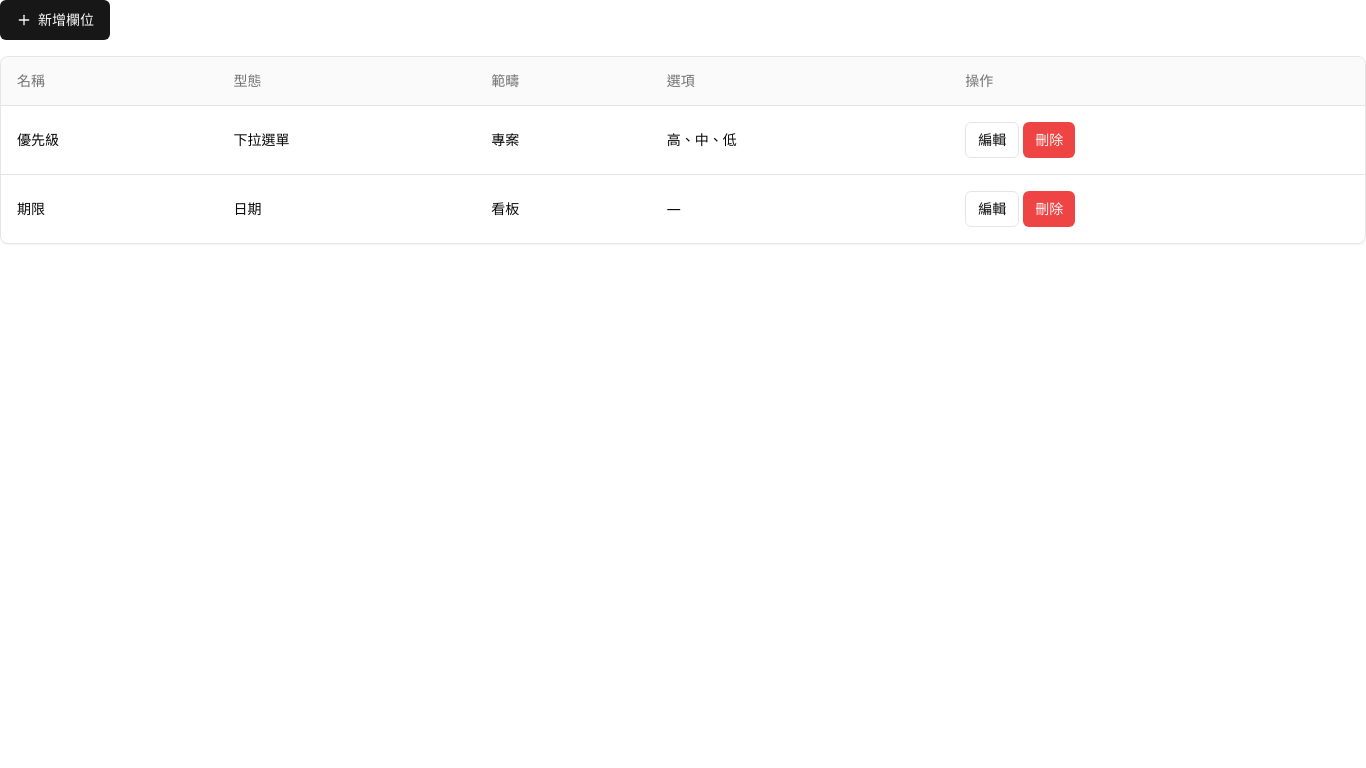
Test: CustomFieldsTab 編輯欄位 › 取消後改開另一列，顯示的是該列內容而非前一列的未儲存變更
The width and height of the screenshot is (1366, 768).
expect the text "優先級" is shown: met, box [1, 105, 218, 174]
Click the button "編輯" in the row of "優先級". click: [992, 140]
box: [965, 122, 1019, 158]
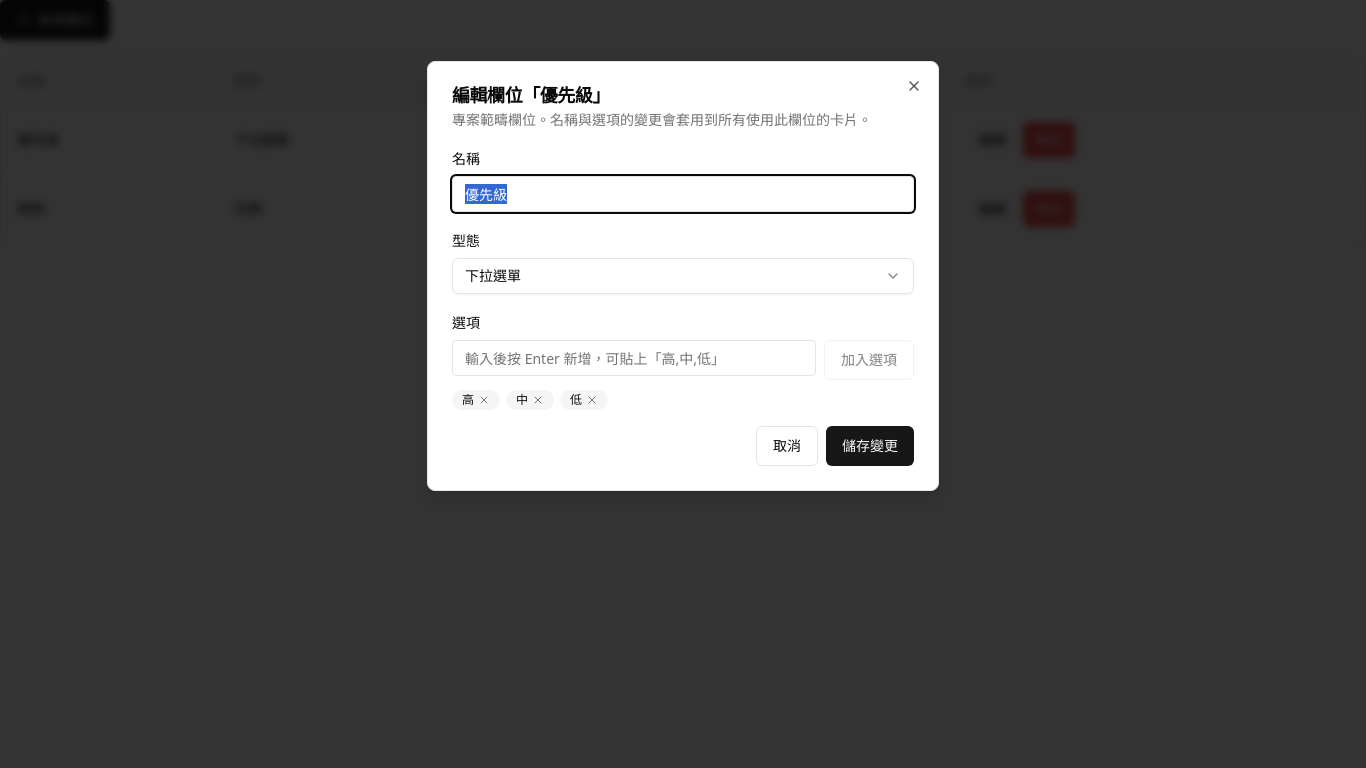
Replace the text in the field labelled "名稱" with "改到一半". click: [683, 194]
box: [452, 176, 914, 212]
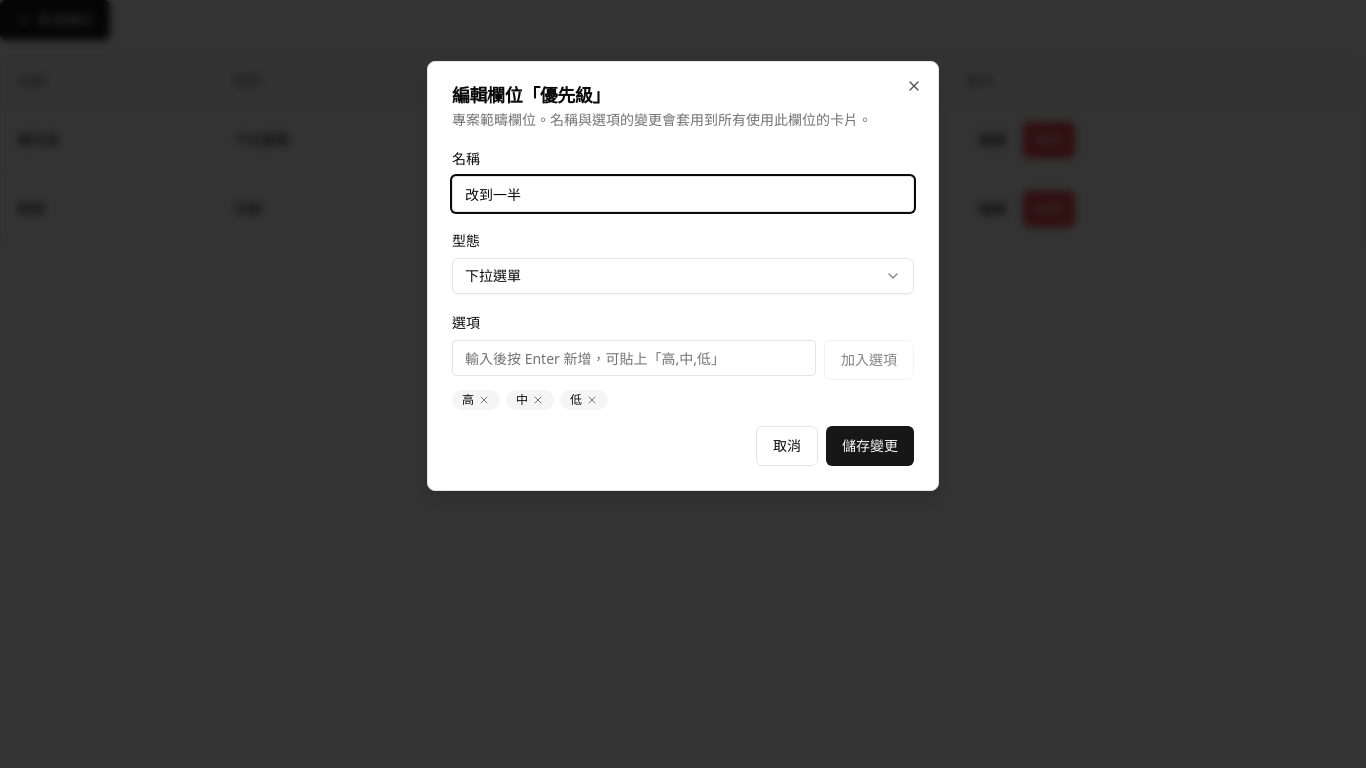
Click the button "取消". click: [787, 446]
box: [756, 426, 818, 466]
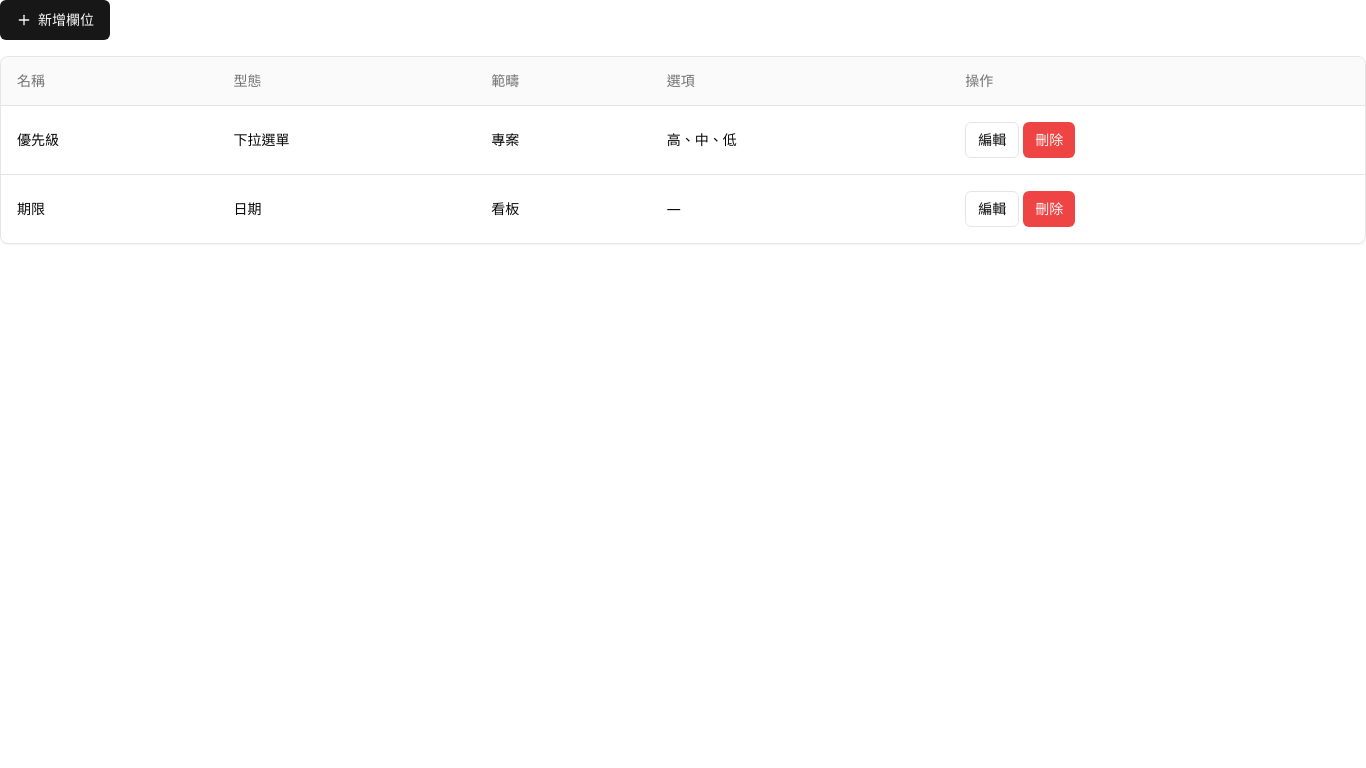
expect the dialog is gone: met
Click the button "編輯" in the row of "期限". click: [992, 208]
box: [965, 190, 1019, 226]
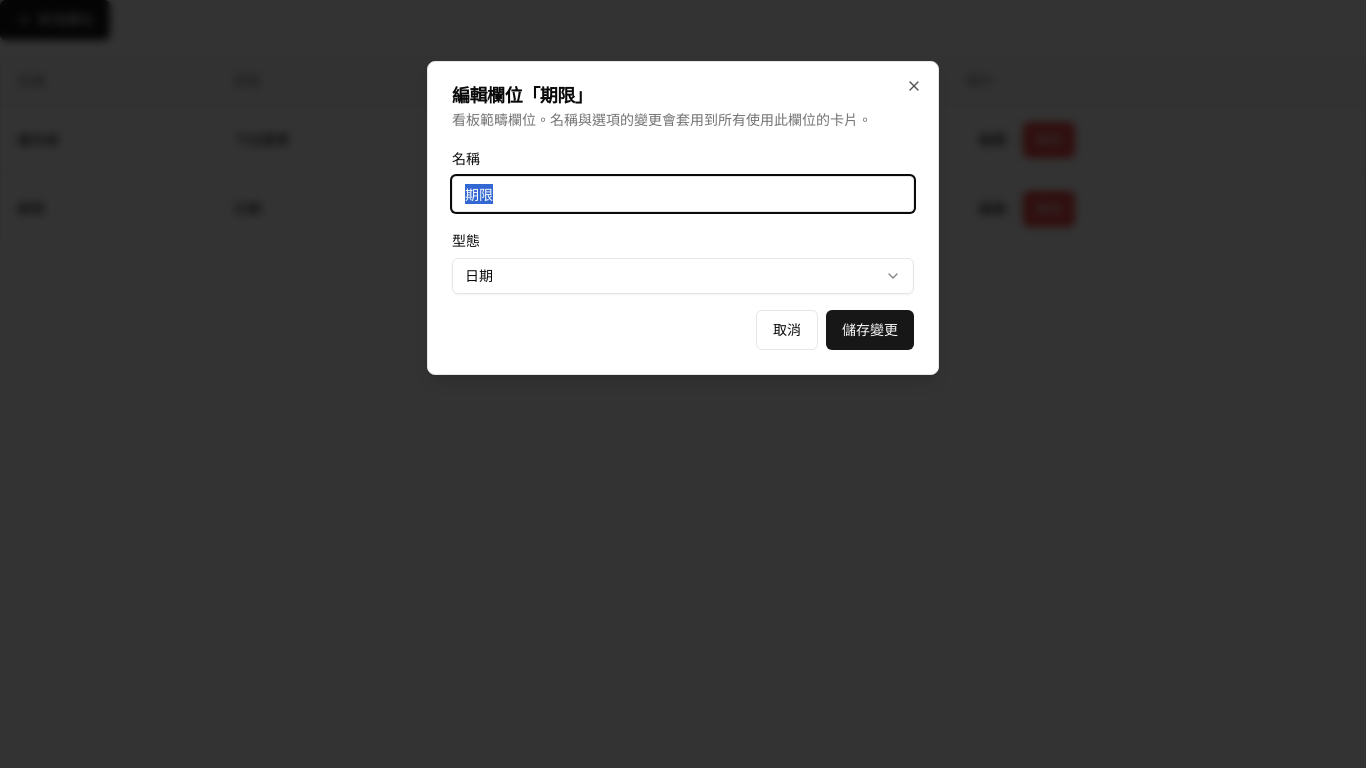
expect the heading "編輯欄位「期限」" is shown: met, box [452, 83, 592, 107]
expect the field labelled "名稱" holds "期限": met, box [452, 176, 914, 212]
